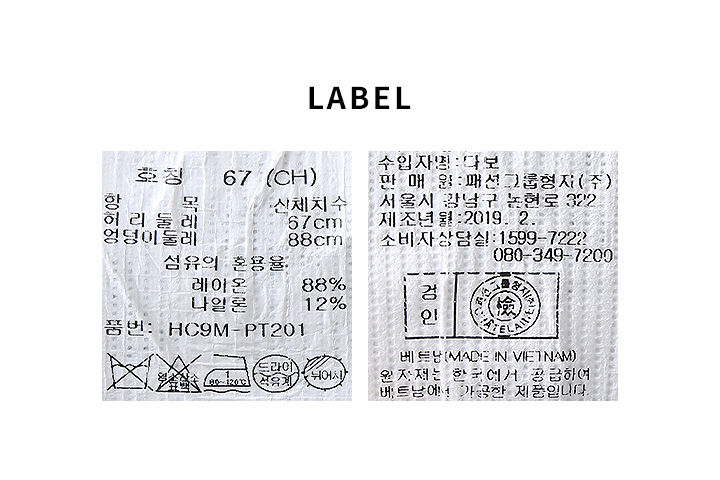KR_dry_clean_petroleum: (251, 348, 300, 394)
KR_flat_dry_in_shade: (302, 350, 349, 395)
KR_iron_low_temp_with_cloth: (202, 349, 253, 393)
KR_no_bleach: (155, 348, 203, 395)
KR_no_wash: (107, 349, 153, 393)
